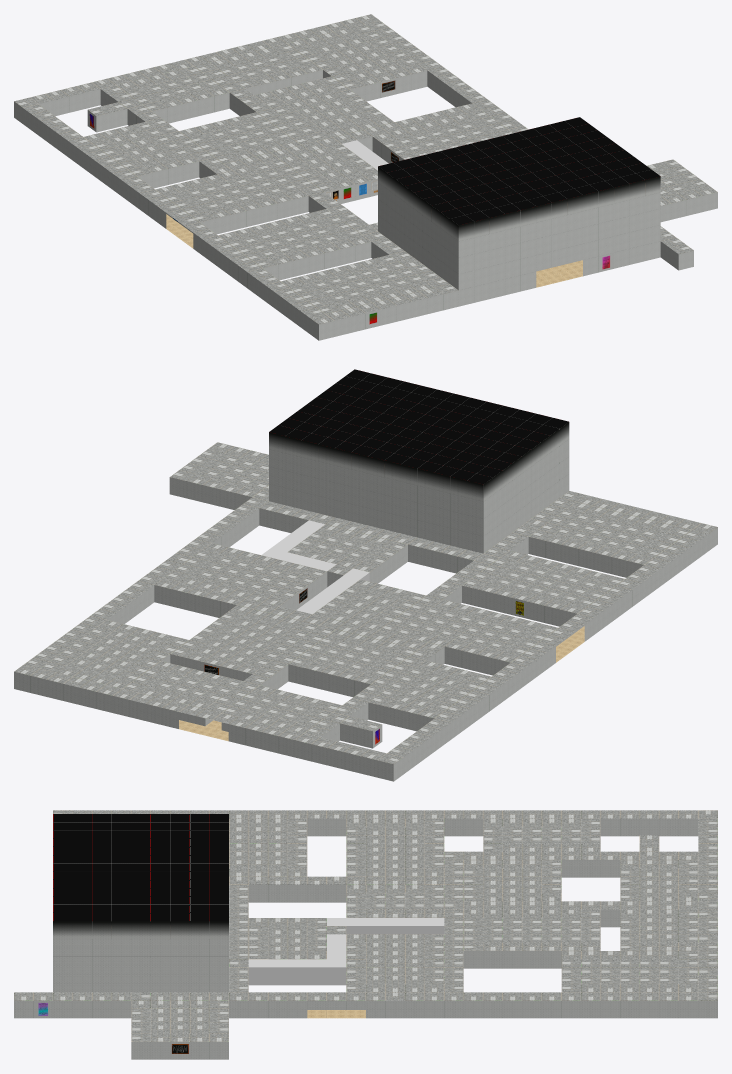
The model's file is school_house.dae.
The picture shows the model from 3 angles, top to bottom: view 1: azimuth 30°, elevation 25°; view 2: azimuth 150°, elevation 25°; view 3: azimuth 270°, elevation 25°; orthographic projection. The views are drawn at different scales.
Visible parts, largest first — view 1: SchoolHouse-col; view 2: SchoolHouse-col; view 3: SchoolHouse-col.
Part boxes in pixels (<box>): SchoolHouse-col: <box>14,14,717,340</box>; SchoolHouse-col: <box>14,369,717,781</box>; SchoolHouse-col: <box>14,810,717,1059</box>.
Size of what is drawn, in the model's own units: 280 by 360 by 50.
